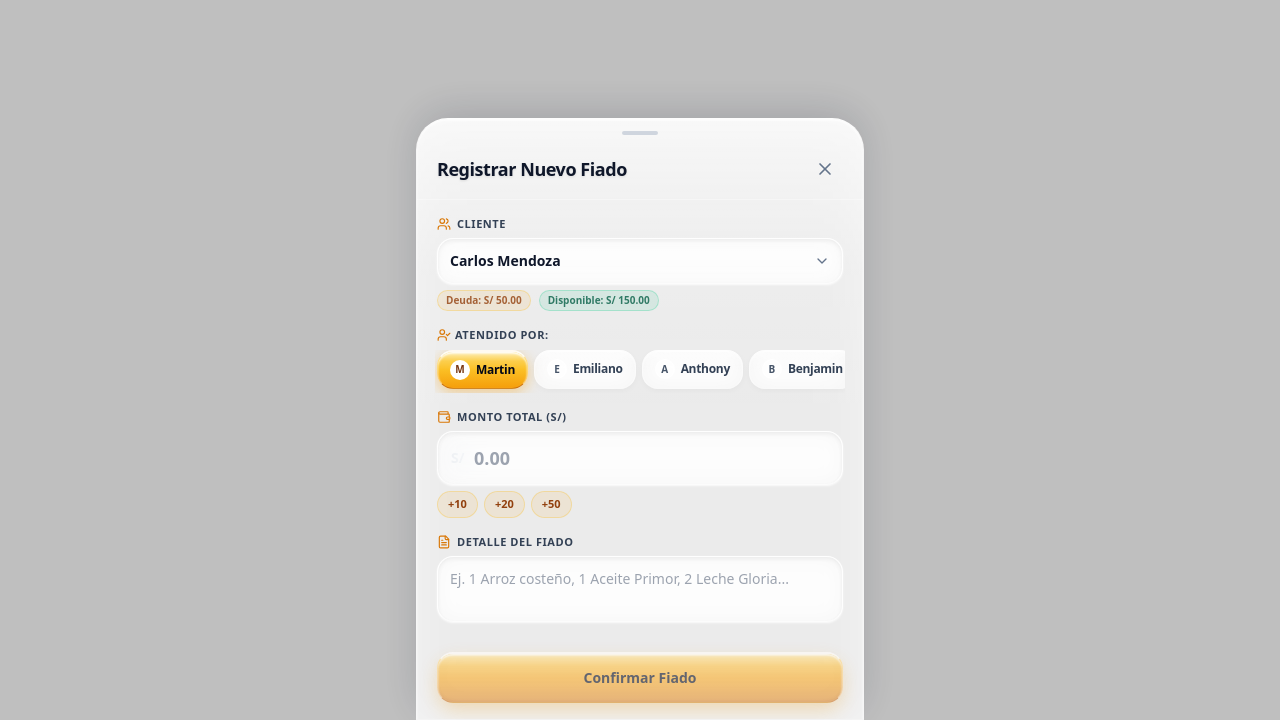
Test: QuickCreditModal - Cashier Selection & Fiado Flow › quick-add chips sum onto the amount and enable the CTA
This screenshot has width=1280, height=720.
Expected: the text "Carlos Mendoza" is shown, [450,251,561,271]
Click the button "+20" at (504, 504), box [484,491,525,518]
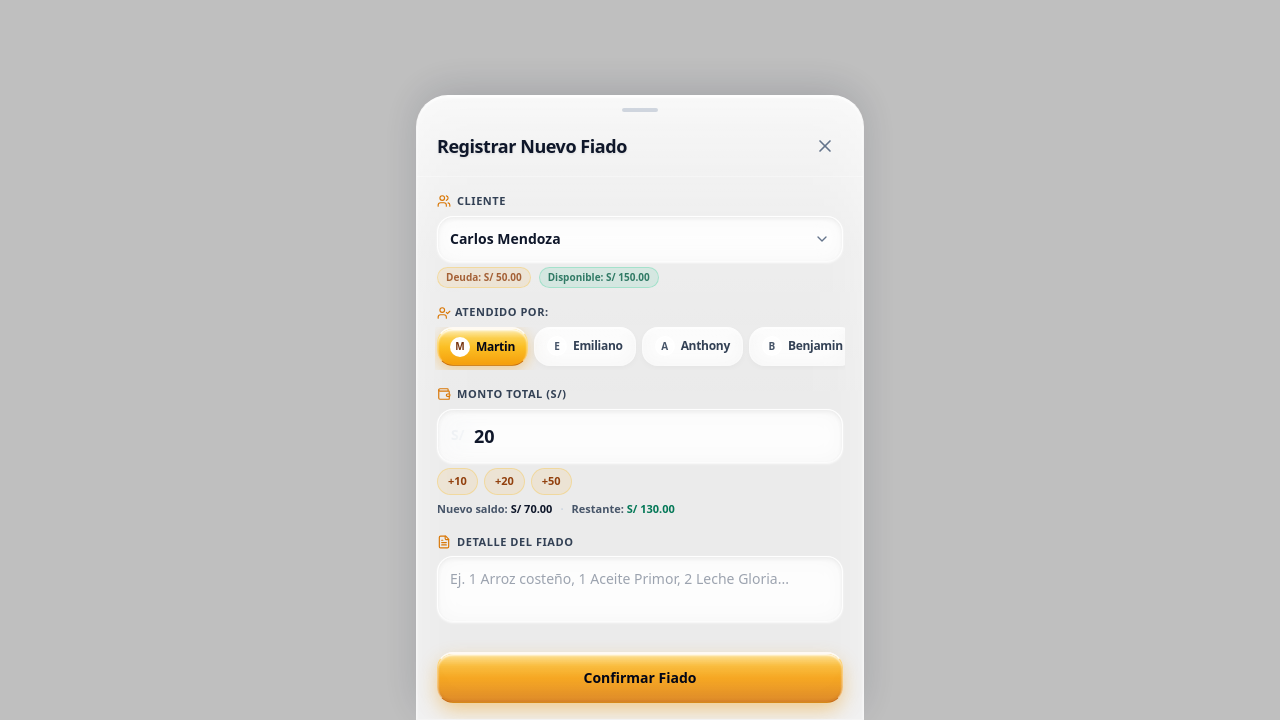
Expected: the number field with placeholder "0.00" holds "20", [437,408,843,462]
Click the button "+50" at (551, 482), box [531,468,572,495]
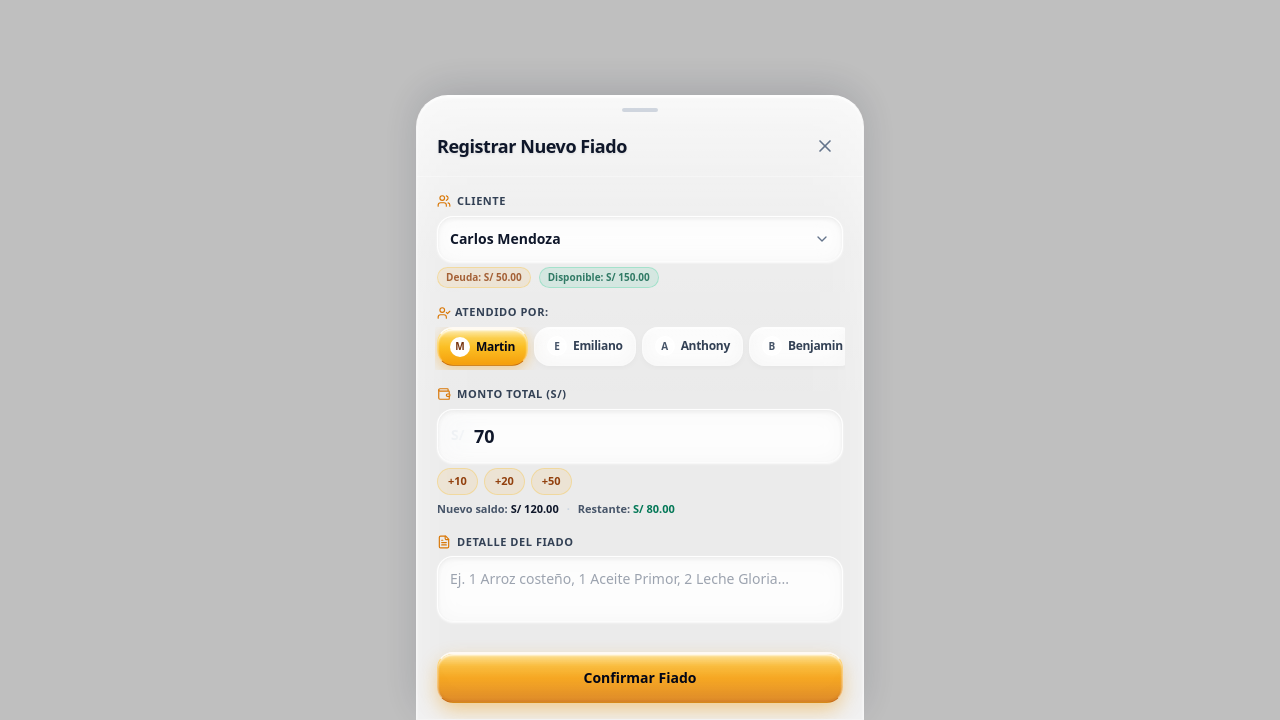
Expected: the button "Confirmar Fiado" is enabled, [437,652,843,703]
Expected: the text "Nuevo saldo: S/ 120.00" is shown, [437,501,559,518]
Expected: the number field with placeholder "0.00" holds "70", [437,408,843,462]
